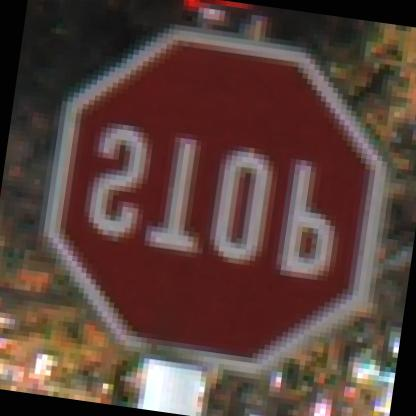stop: (28, 10, 402, 386)
